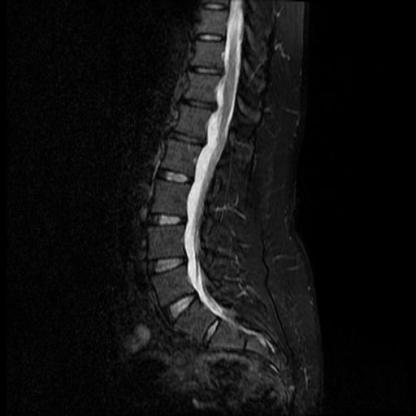Annular Disc Relaxationrotation: (167, 295, 201, 318), (197, 320, 226, 344)
Degenerative Disc Diseaserotation: (167, 295, 201, 318), (197, 320, 226, 343), (158, 169, 194, 187)
Disc Bulgerotation: (158, 169, 194, 187)
